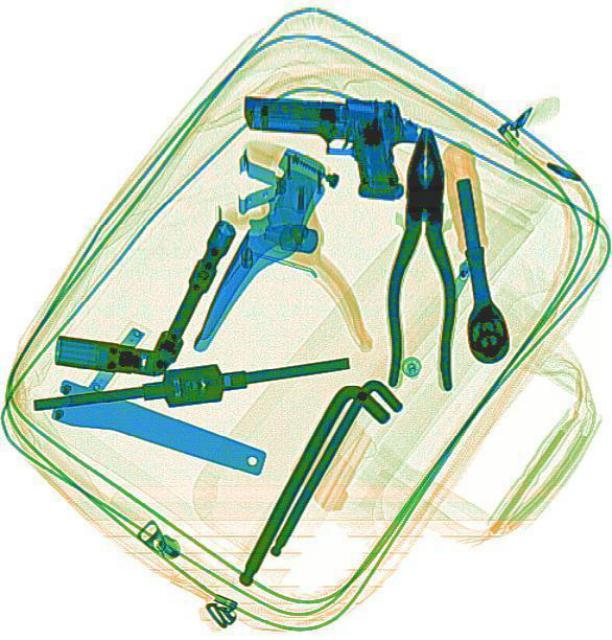Gun: (235, 90, 411, 200)
Pliers: (386, 125, 456, 391)
